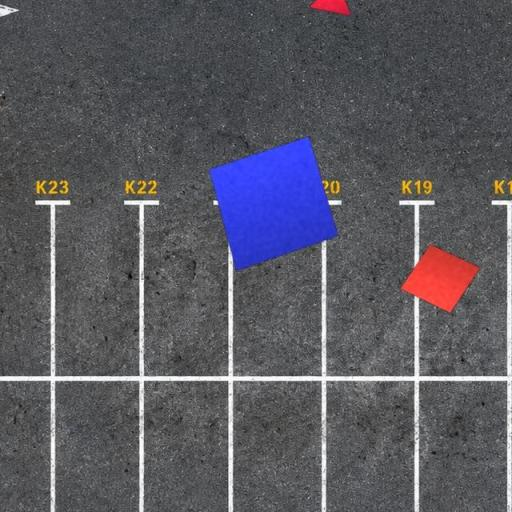BLUE_SQUARE: (208, 136, 339, 272)
RED_SQUARE: (399, 244, 481, 314)
